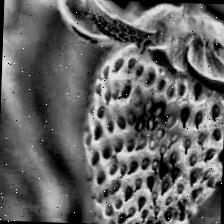Anthracnose Fruit Rot: (121, 86, 188, 154)
